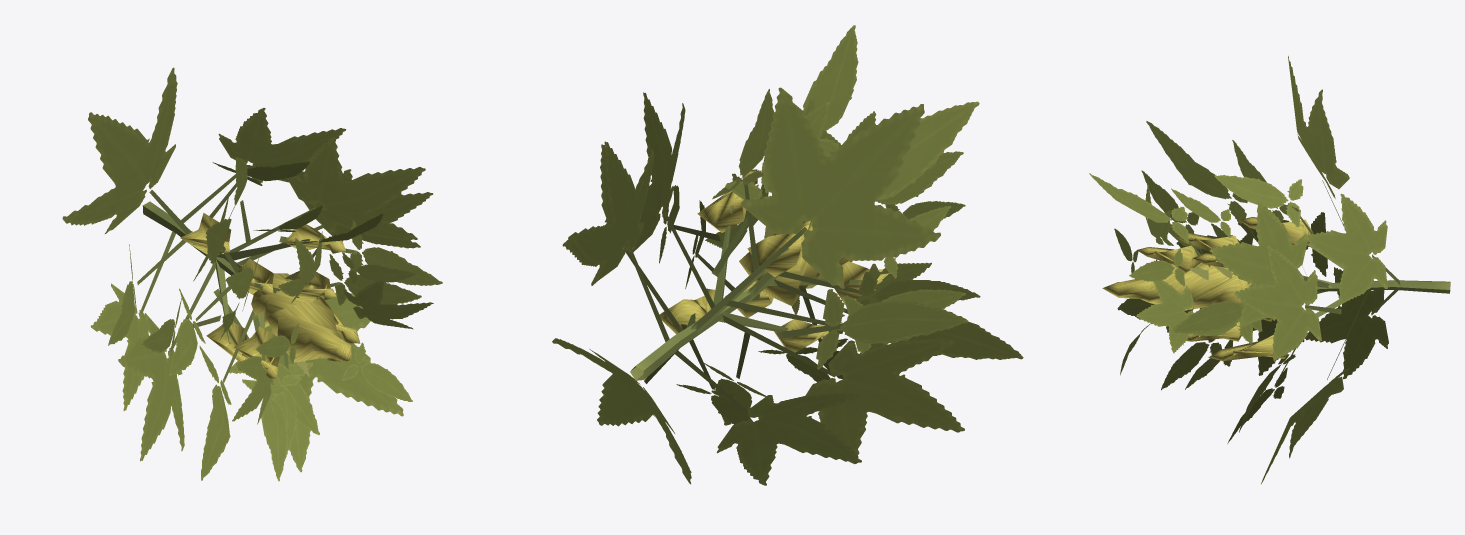
File: p_gold_auto_flowering_c1_cards.obj
3 views of the same model, side by side, from view 1: azimuth 30°, elevation 25°; view 2: azimuth 150°, elevation 25°; view 3: azimuth 270°, elevation 25° (orthographic). The views are drawn at different scales.
Bounding box in the file's own units: 1.17 × 1.28 × 0.983.
Materials: 1 (1 with a texture image).
